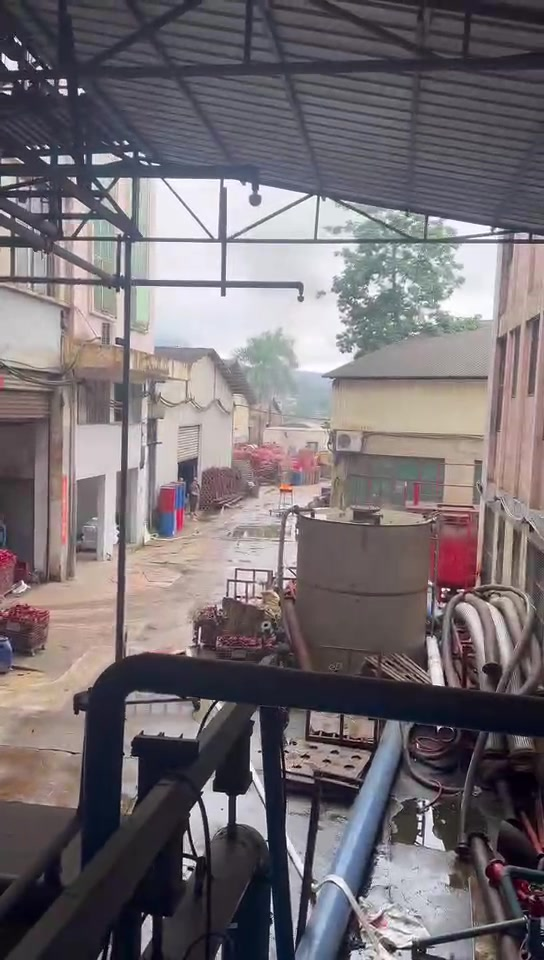fire: (279, 481, 292, 489)
